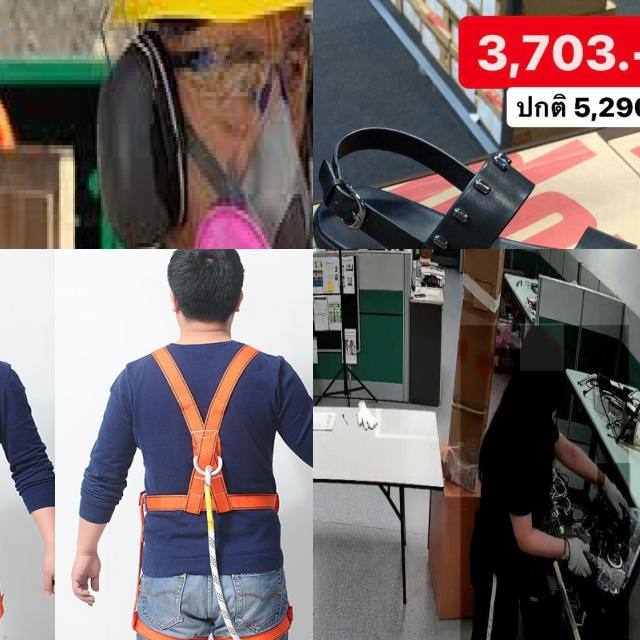Ear-protection: (91, 35, 186, 239), (297, 10, 313, 169)
Harness: (131, 344, 286, 640)
Sandals: (313, 110, 640, 249)
glasses: (176, 35, 313, 124)
hand_glove: (597, 463, 631, 540), (564, 519, 598, 587)
head_nohelmet: (520, 324, 564, 372)
person: (460, 325, 629, 640)
